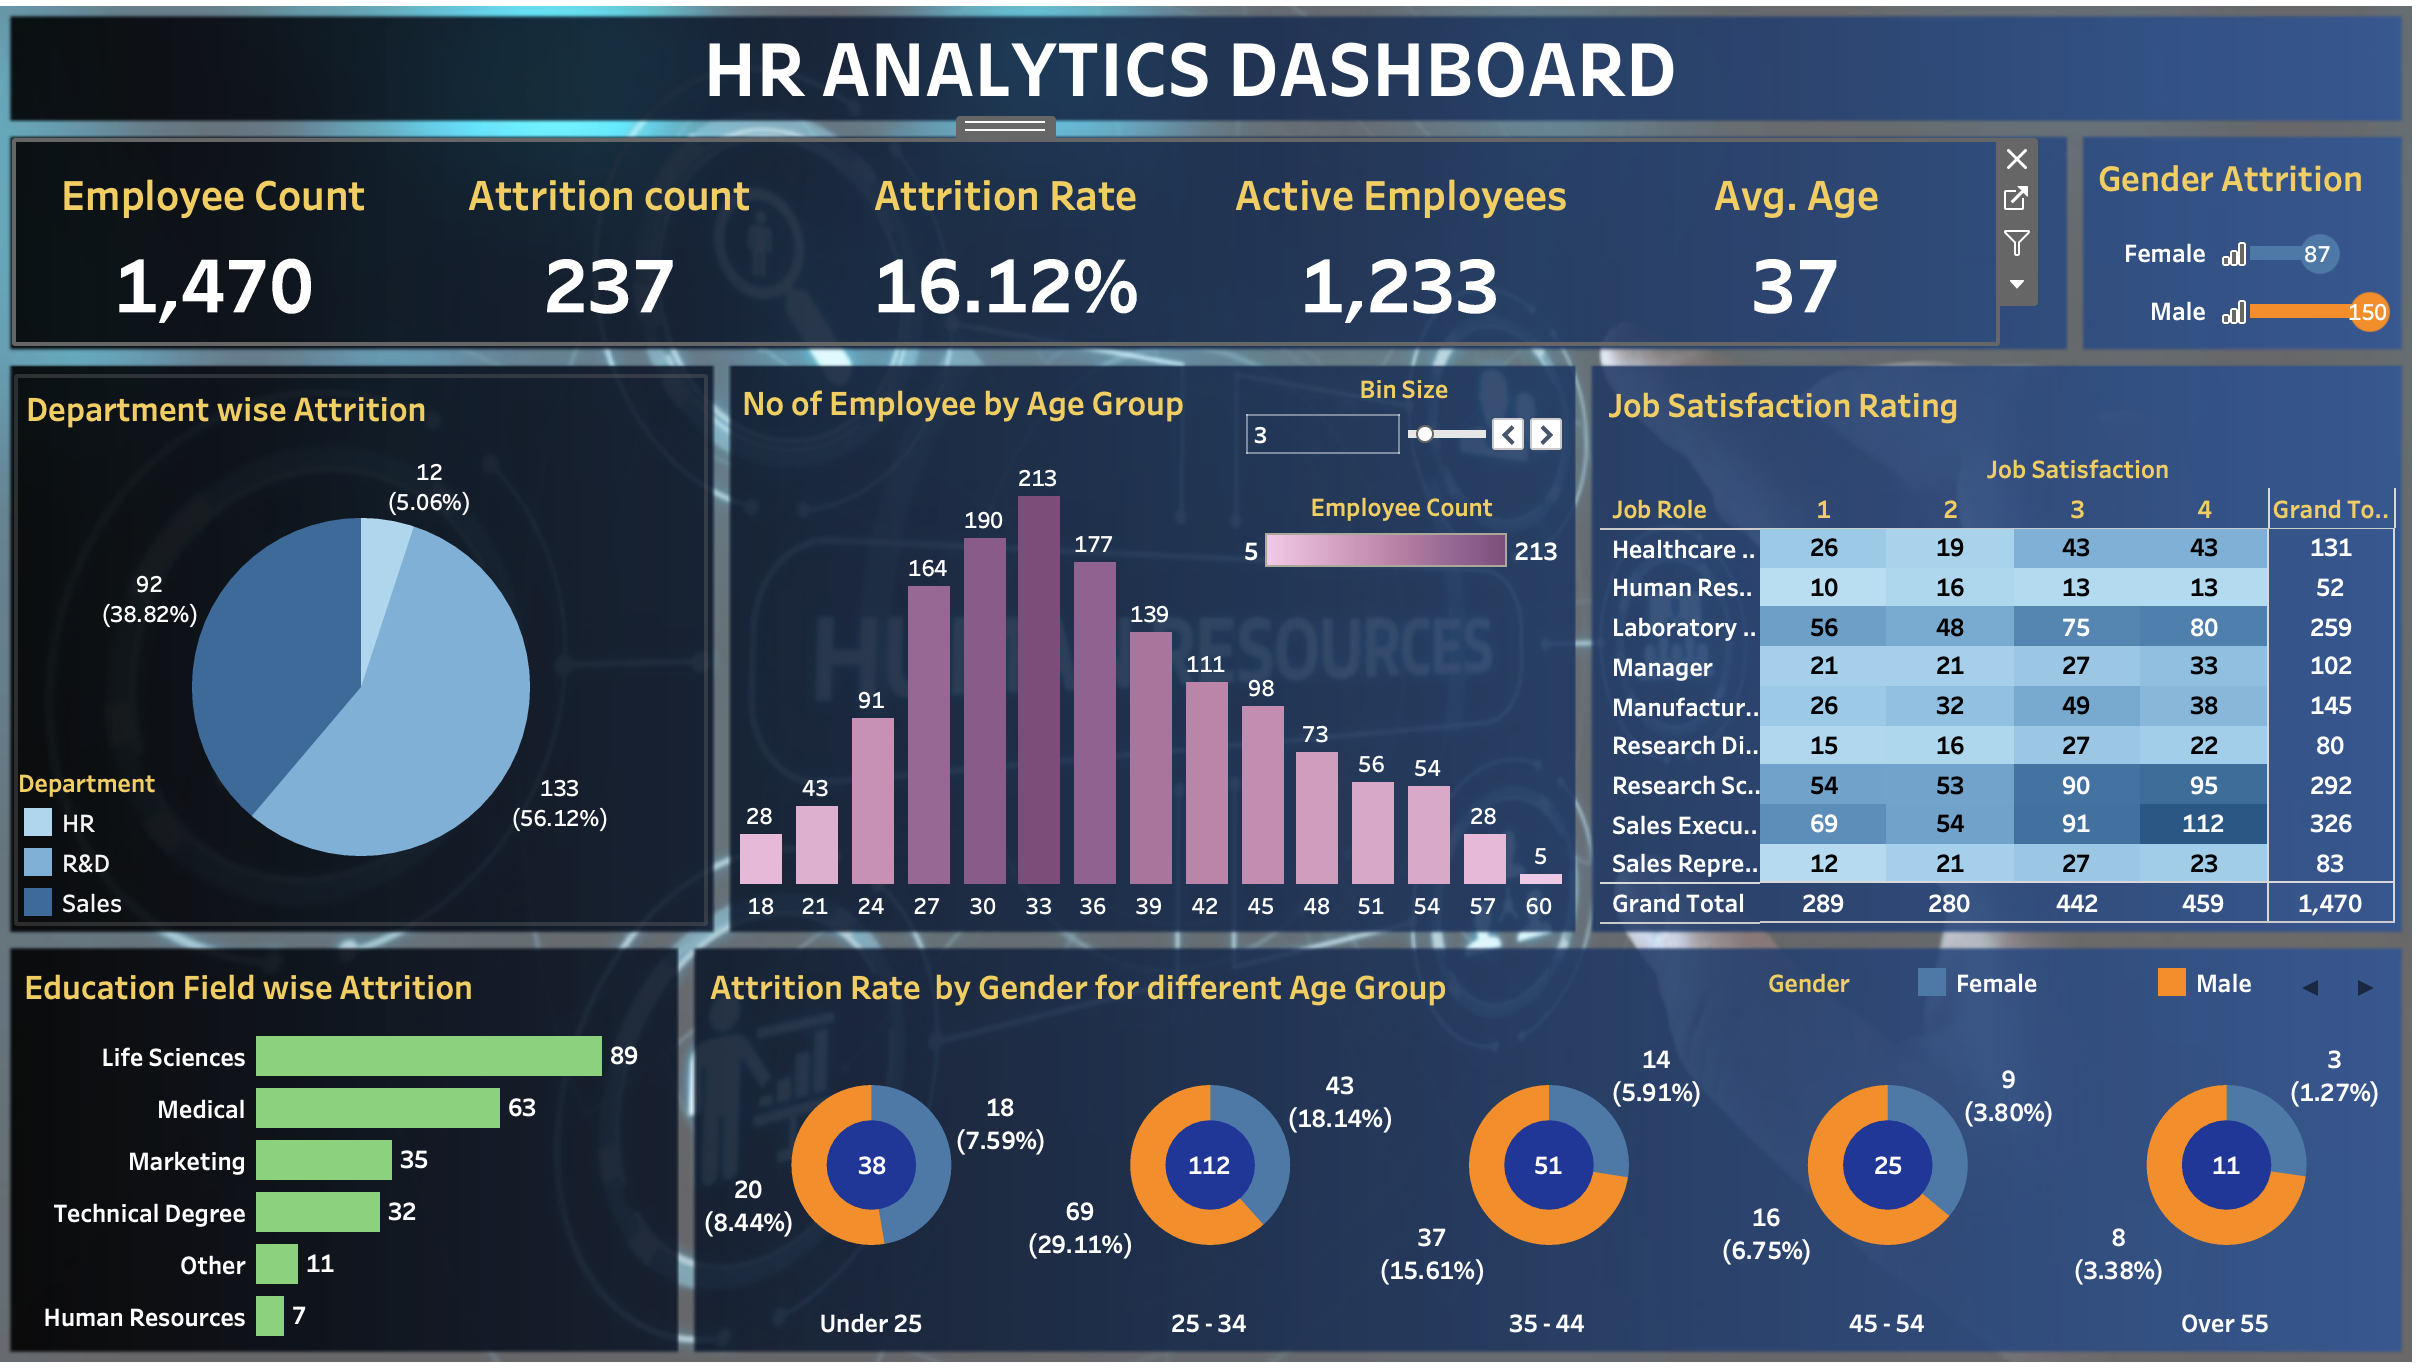

The dashboard page shown, as its layout file describes it:
{"tool":"tableau","page":{"name":"HR Analytics Dashboard","canvas":[1230,750],"ordinal":0},"visuals":[{"type":"image","param":"/Users/zjpg/Downloads/HR background.pptx.png","box":[8,8,1214,734]},{"type":"text","box":[361,43,554,46]},{"type":"worksheet","title":"KPI","mark":"Automatic","box":[20,104,990,100]},{"type":"worksheet","title":"Gender Attrition ","mark":"Automatic","rows":["Gender"],"cols":["Calculation_1881308431321391104","Calculation_1881308431321391104"],"box":[1057,106,153,97]},{"type":"worksheet","title":"No of Employee by Age Group","mark":"Automatic","rows":["Employee Count"],"cols":["Age (bin)"],"box":[379,219,417,276]},{"type":"parameter","param":"[Parameters].[Parameter 1]","box":[632,219,164,45]},{"type":"worksheet","title":"Job Satisfaction Rating","mark":"Square","rows":["Job Role"],"cols":["Job Satisfaction"],"box":[812,220,399,275]},{"type":"worksheet","title":"Department wise Attrition","mark":"Pie","box":[21,222,343,272]},{"type":"legend","title":"No of Employee by Age Group","param":"[federated.103zyly04wrjr71ar8a550ig6hbd].[sum:Employee Count:qk]","box":[630,278,166,50]},{"type":"legend","title":"Department wise Attrition","param":"[federated.103zyly04wrjr71ar8a550ig6hbd].[none:Department:nk]","box":[21,416,96,78]},{"type":"worksheet","title":"Education Field wise Attrition","mark":"Automatic","rows":["Education Field"],"cols":["Calculation_1881308431321391104"],"box":[20,511,326,193]},{"type":"worksheet","title":"Attrition Rate  by Gender for different Age Group","mark":"Pie","rows":["Calculation_1982287579268878337","Calculation_1982287579268878337"],"cols":["CF_age band"],"box":[363,511,847,193]},{"type":"legend","title":"Attrition Rate  by Gender for different Age Group","param":"[federated.103zyly04wrjr71ar8a550ig6hbd].[none:Gender:nk]","box":[896,514,313,26]}]}

Visuals, with their boxes on the page's 1230x750 design canvas (x1, y1, x2, y2). These are canvas units, not pixel positions in the 2418x1370 screenshot, which may show the page scaled, cropped or inside an application window:
image: {"left": 8, "top": 8, "right": 1222, "bottom": 742}
text: {"left": 361, "top": 43, "right": 915, "bottom": 89}
"KPI" worksheet: {"left": 20, "top": 104, "right": 1010, "bottom": 204}
"Gender Attrition " worksheet: {"left": 1057, "top": 106, "right": 1210, "bottom": 203}
"No of Employee by Age Group" worksheet: {"left": 379, "top": 219, "right": 796, "bottom": 495}
parameter: {"left": 632, "top": 219, "right": 796, "bottom": 264}
"Job Satisfaction Rating" worksheet (Square marks): {"left": 812, "top": 220, "right": 1211, "bottom": 495}
"Department wise Attrition" worksheet (Pie marks): {"left": 21, "top": 222, "right": 364, "bottom": 494}
"No of Employee by Age Group" legend: {"left": 630, "top": 278, "right": 796, "bottom": 328}
"Department wise Attrition" legend: {"left": 21, "top": 416, "right": 117, "bottom": 494}
"Education Field wise Attrition" worksheet: {"left": 20, "top": 511, "right": 346, "bottom": 704}
"Attrition Rate  by Gender for different Age Group" worksheet (Pie marks): {"left": 363, "top": 511, "right": 1210, "bottom": 704}
"Attrition Rate  by Gender for different Age Group" legend: {"left": 896, "top": 514, "right": 1209, "bottom": 540}
